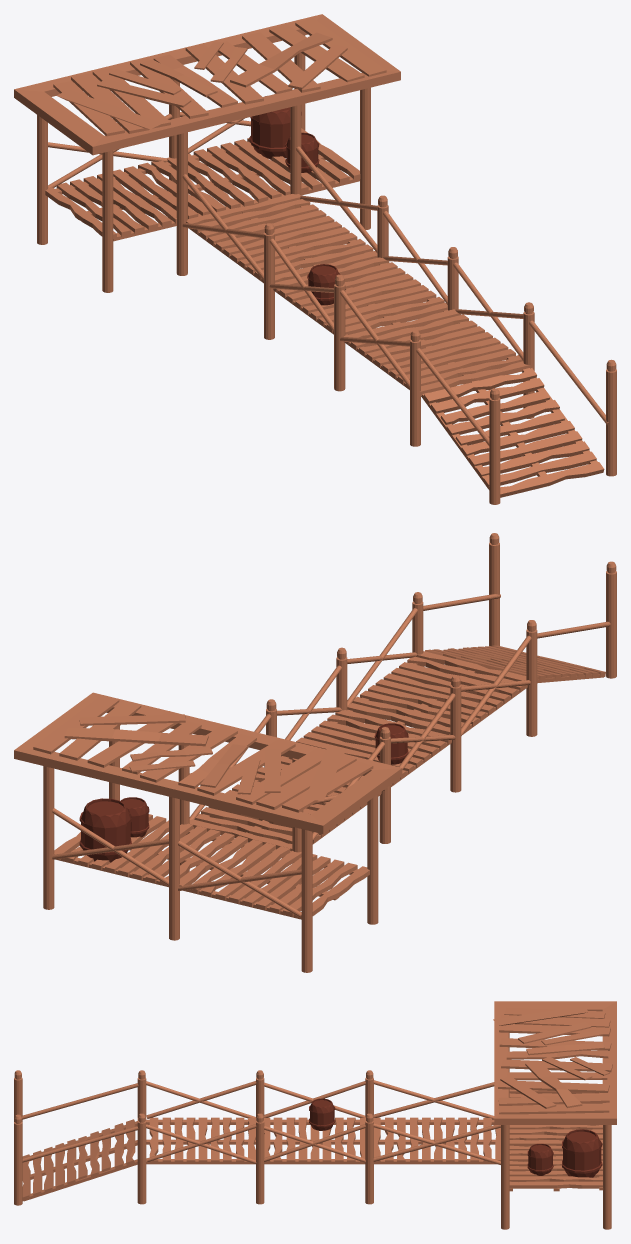
File: PIER LODDDDDe.fbx
3 views of the same model, one above another, from view 1: azimuth 30°, elevation 25°; view 2: azimuth 150°, elevation 25°; view 3: azimuth 270°, elevation 25° (orthographic). The views are drawn at different scales.
Visible parts, largest first — view 1: PIER_LOD0; view 2: PIER_LOD0; view 3: PIER_LOD0.
Part boxes in pixels (<box>): PIER_LOD0: <box>14,14,616,504</box>; PIER_LOD0: <box>14,533,616,972</box>; PIER_LOD0: <box>14,1001,616,1229</box>.
Size of what is drawn, in the model's own units: 1351 by 684 by 2936.
